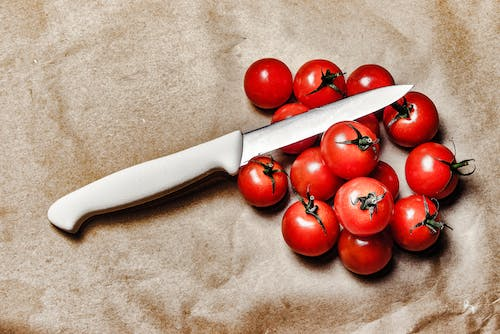knife: (46, 82, 417, 234)
